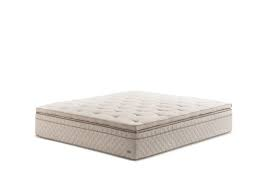bed-matress: (35, 90, 231, 161)
